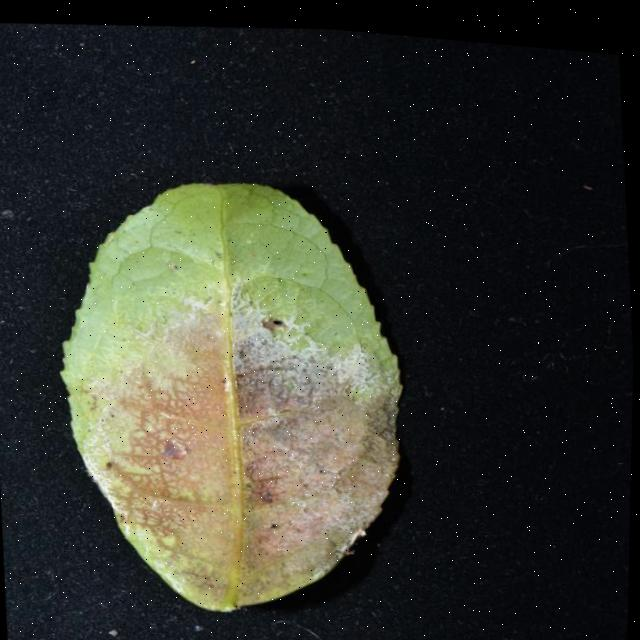Tea exobasidium blight: (82, 278, 414, 623)
